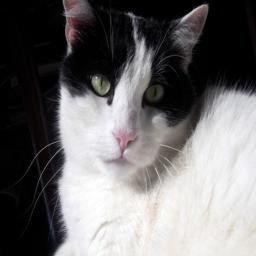catnose: (112, 124, 138, 154)
